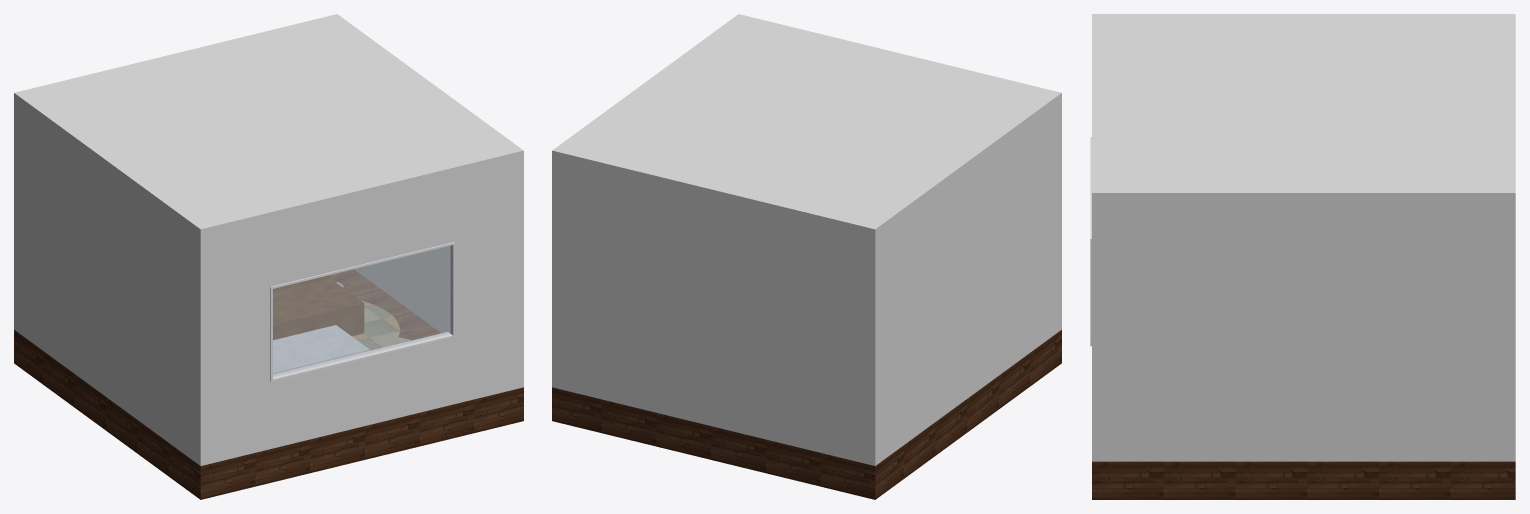
Rendered from livingroom.glb.
The picture shows the model from 3 angles, left to right: view 1: azimuth 30°, elevation 25°; view 2: azimuth 150°, elevation 25°; view 3: azimuth 270°, elevation 25°; orthographic projection. The views are drawn at different scales.
Visible parts, largest first — view 1: Untitled.008, Untitled.007, Untitled.022, Untitled.006, Untitled.024, Untitled.021; view 2: Untitled.008; view 3: Untitled.008.
Part boxes in pixels (x1,y1,x2,y2): Untitled.008: (14, 14, 523, 499); Untitled.007: (273, 246, 450, 376); Untitled.022: (273, 278, 364, 339); Untitled.006: (270, 242, 454, 381); Untitled.024: (273, 325, 369, 374); Untitled.021: (352, 300, 411, 350); Untitled.008: (552, 14, 1061, 499); Untitled.008: (1092, 14, 1515, 499).
Size of the model in its own units: 5000 by 4000 by 5020.
10 materials, 7 textured.
